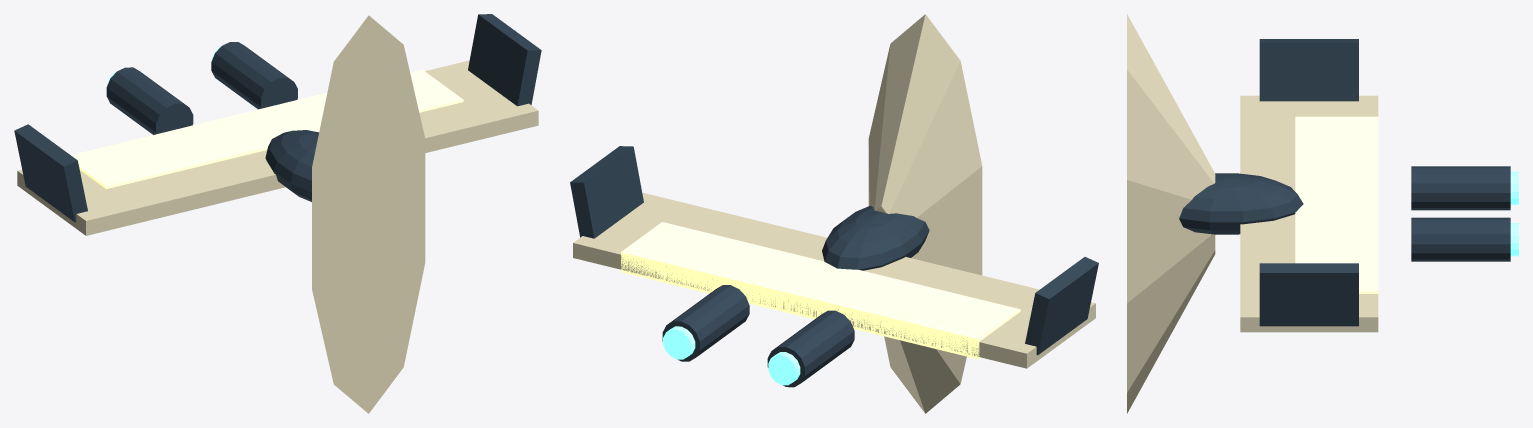
The model's file is RingSkimmer.glb.
3 renders of one model, left to right at view 1: azimuth 30°, elevation 25°; view 2: azimuth 150°, elevation 25°; view 3: azimuth 270°, elevation 25°, orthographic.
Visible parts, largest first — view 1: SaturnCream, SaturnCream.001, Gold.008, Dark.024, Dark.023, Dark.025, Dark.026, Dark.022; view 2: SaturnCream, Gold.008, SaturnCream.001, Dark.022, Dark.024, Dark.023, Dark.025, Dark.026, Glow, Glow.001; view 3: SaturnCream, Gold.008, SaturnCream.001, Dark.024, Dark.023, Dark.022, Dark.025, Dark.026.
Boxes of the visible parts, box(x1,y1,x2,y2) form: SaturnCream: box(312, 15, 425, 413); SaturnCream.001: box(17, 60, 538, 235); Gold.008: box(71, 69, 463, 189); Dark.024: box(468, 14, 541, 106); Dark.023: box(14, 124, 87, 222); Dark.025: box(106, 67, 193, 134); Dark.026: box(211, 42, 297, 109); Dark.022: box(265, 130, 318, 201); SaturnCream: box(868, 14, 982, 413); Gold.008: box(621, 222, 1020, 359); SaturnCream.001: box(573, 192, 1095, 368); Dark.022: box(822, 205, 929, 270); Dark.024: box(570, 146, 643, 238); Dark.023: box(1025, 257, 1098, 355); Dark.025: box(767, 310, 854, 387); Dark.026: box(662, 285, 749, 361); Glow: box(768, 352, 800, 385); Glow.001: box(663, 326, 695, 359); SaturnCream: box(1127, 14, 1215, 413); Gold.008: box(1295, 116, 1378, 293); SaturnCream.001: box(1240, 95, 1378, 332); Dark.024: box(1259, 263, 1358, 326); Dark.023: box(1259, 39, 1358, 101); Dark.022: box(1179, 173, 1303, 234); Dark.025: box(1411, 166, 1510, 210); Dark.026: box(1411, 217, 1510, 261).
Bounding box in the file's own units: 2.01 × 1.6 × 1.42.
